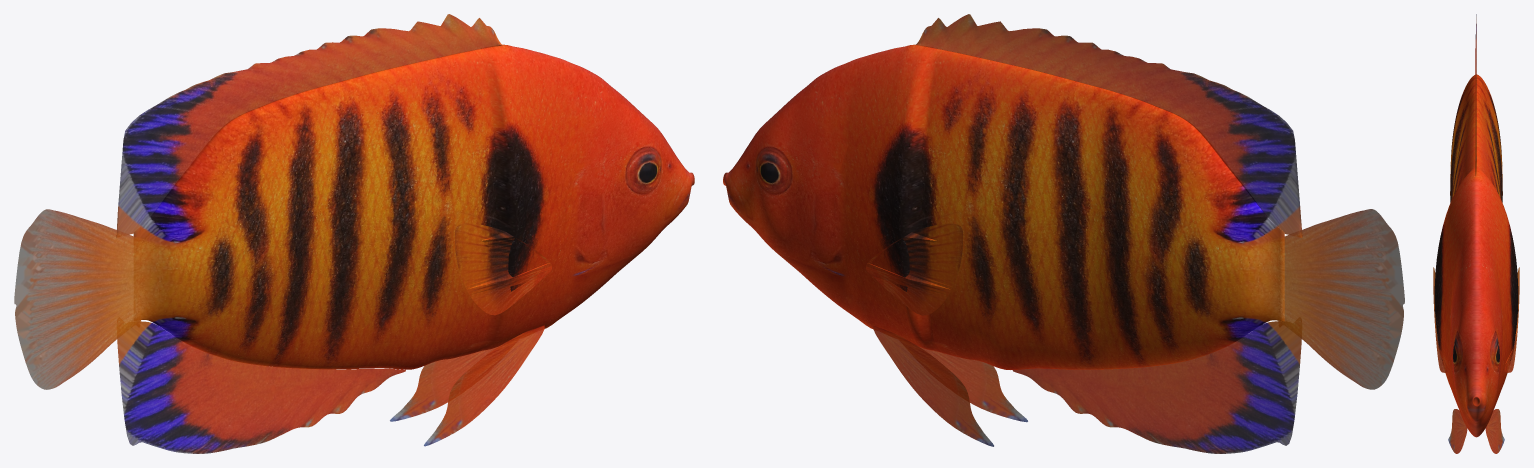
The model's file is loricula-B9YucQzP.glb.
3 views of the same model, side by side, from view 1: azimuth 30°, elevation 25°; view 2: azimuth 150°, elevation 25°; view 3: azimuth 270°, elevation 25° (orthographic). The views are drawn at different scales.
Parts seen in each view (by area): view 1: loricula__body, loricula__fin_2, loricula__fin_1, loricula__fin_0, loricula__gill_1, loricula__pectoral_1, loricula__pelvic_1, loricula__pelvic_-1, loricula__eye_1; view 2: loricula__body, loricula__fin_2, loricula__fin_1, loricula__fin_0, loricula__gill_-1, loricula__pectoral_-1, loricula__pelvic_-1, loricula__pelvic_1, loricula__eye_-1; view 3: loricula__body, loricula__pelvic_1, loricula__pelvic_-1, loricula__gill_1, loricula__gill_-1, loricula__pectoral_1, loricula__pectoral_-1, loricula__fin_1, loricula__eye_1, loricula__eye_-1.
Part boxes in pixels (left/top/right/bottom): loricula__body: left=133, top=44, right=694, bottom=369; loricula__fin_2: left=116, top=317, right=405, bottom=453; loricula__fin_1: left=116, top=14, right=502, bottom=237; loricula__fin_0: left=14, top=209, right=141, bottom=389; loricula__gill_1: left=567, top=133, right=621, bottom=276; loricula__pectoral_1: left=455, top=223, right=551, bottom=315; loricula__pelvic_1: left=424, top=325, right=544, bottom=446; loricula__pelvic_-1: left=390, top=347, right=497, bottom=421; loricula__eye_1: left=631, top=150, right=658, bottom=185; loricula__body: left=723, top=44, right=1284, bottom=369; loricula__fin_2: left=1012, top=317, right=1302, bottom=453; loricula__fin_1: left=916, top=14, right=1302, bottom=237; loricula__fin_0: left=1278, top=209, right=1404, bottom=389; loricula__gill_-1: left=795, top=133, right=850, bottom=276; loricula__pectoral_-1: left=865, top=223, right=963, bottom=315; loricula__pelvic_-1: left=873, top=325, right=993, bottom=446; loricula__pelvic_1: left=919, top=347, right=1027, bottom=422; loricula__eye_-1: left=758, top=151, right=786, bottom=185; loricula__body: left=1434, top=74, right=1518, bottom=437; loricula__pelvic_1: left=1448, top=409, right=1467, bottom=453; loricula__pelvic_-1: left=1485, top=409, right=1504, bottom=453; loricula__gill_1: left=1450, top=282, right=1456, bottom=392; loricula__gill_-1: left=1496, top=282, right=1502, bottom=392; loricula__pectoral_1: left=1433, top=267, right=1448, bottom=372; loricula__pectoral_-1: left=1504, top=267, right=1519, bottom=372; loricula__fin_1: left=1475, top=14, right=1476, bottom=176; loricula__eye_1: left=1453, top=335, right=1459, bottom=364; loricula__eye_-1: left=1493, top=335, right=1499, bottom=364.
Bounding box in the file's own units: 1.22 × 0.7113 × 0.1628.
5 materials, 5 textured.
